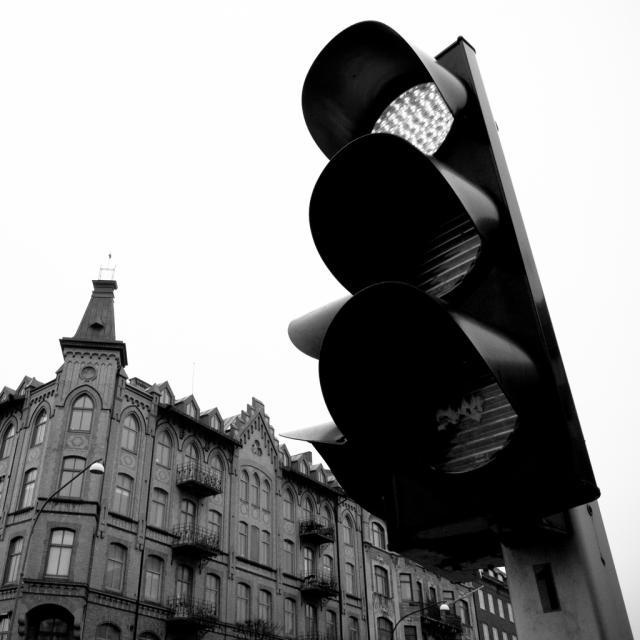traffic light: (314, 23, 591, 518)
